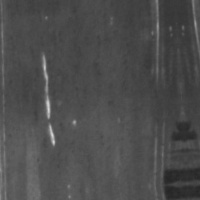inclusion: (162, 164, 187, 186)
scratches: (39, 52, 62, 151), (0, 9, 13, 182), (148, 126, 171, 185), (150, 0, 167, 78)
